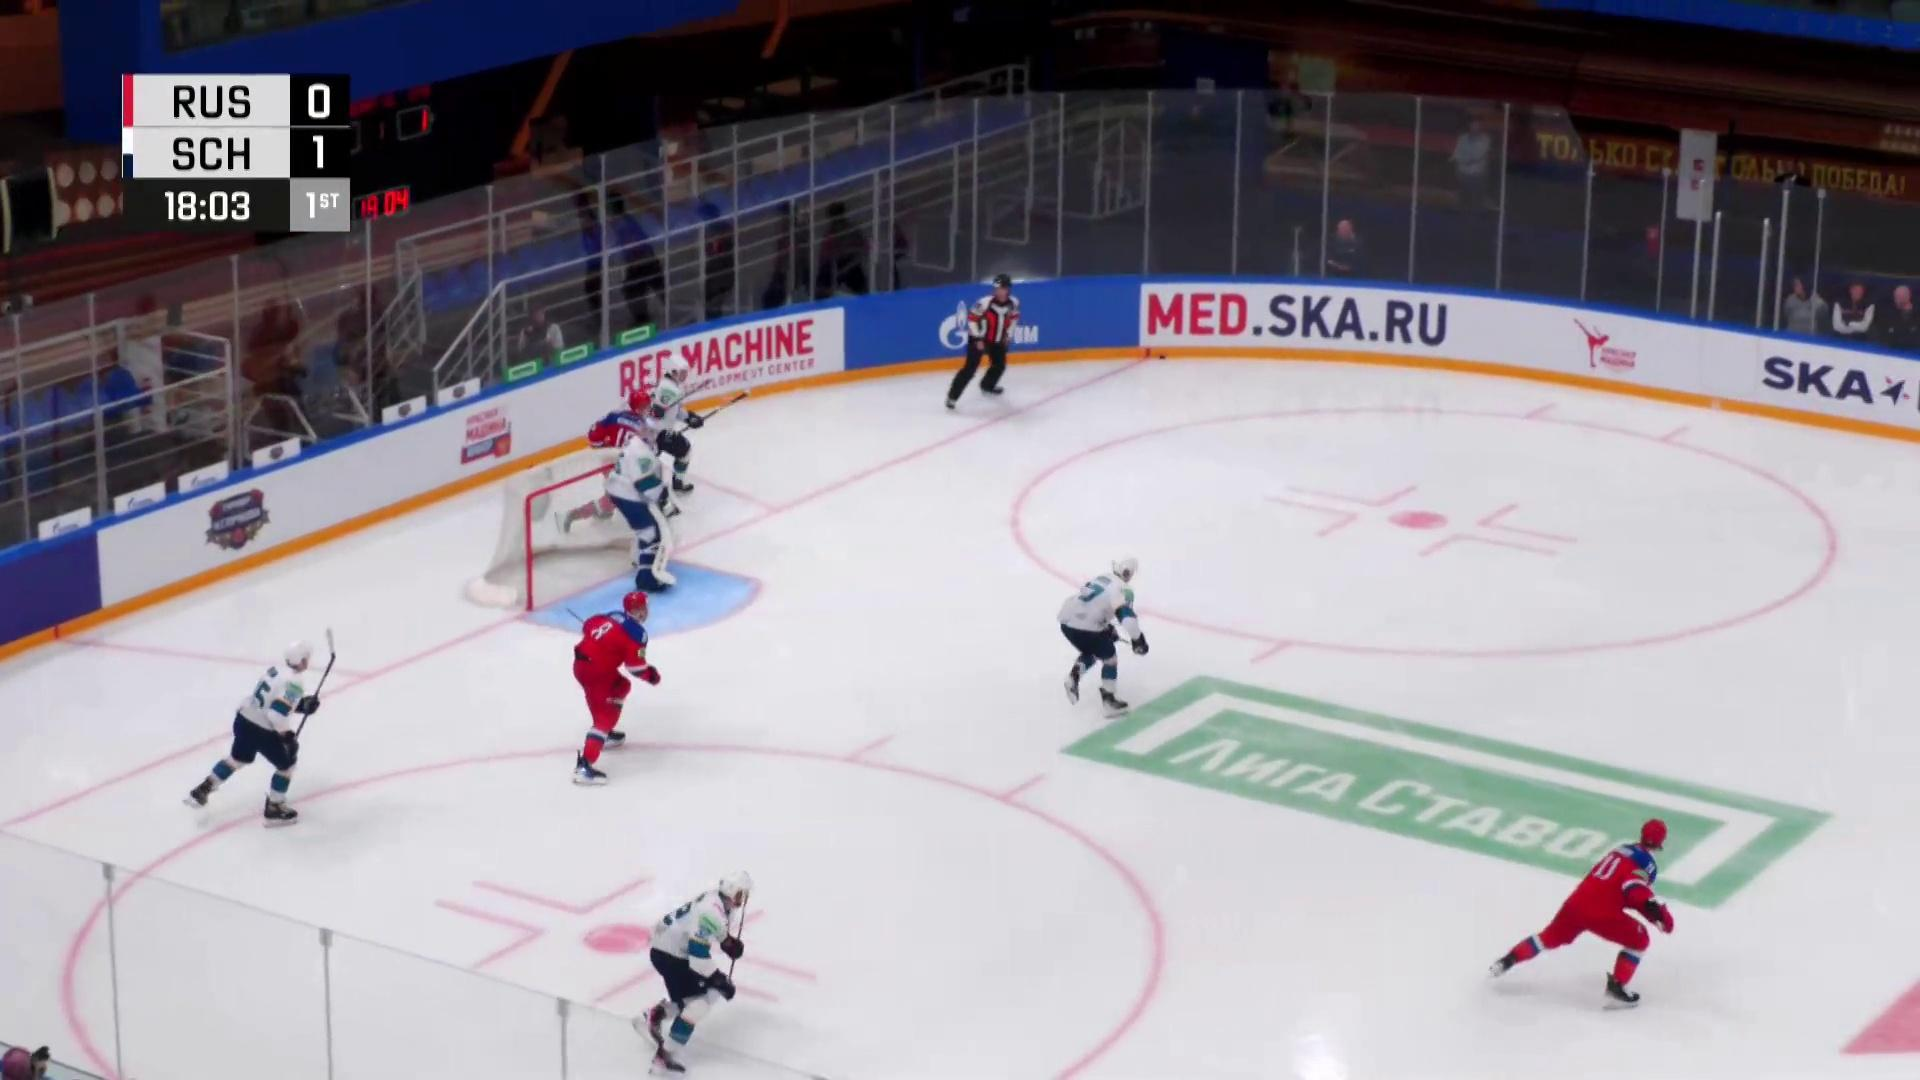ball: (1158, 355, 1167, 360)
